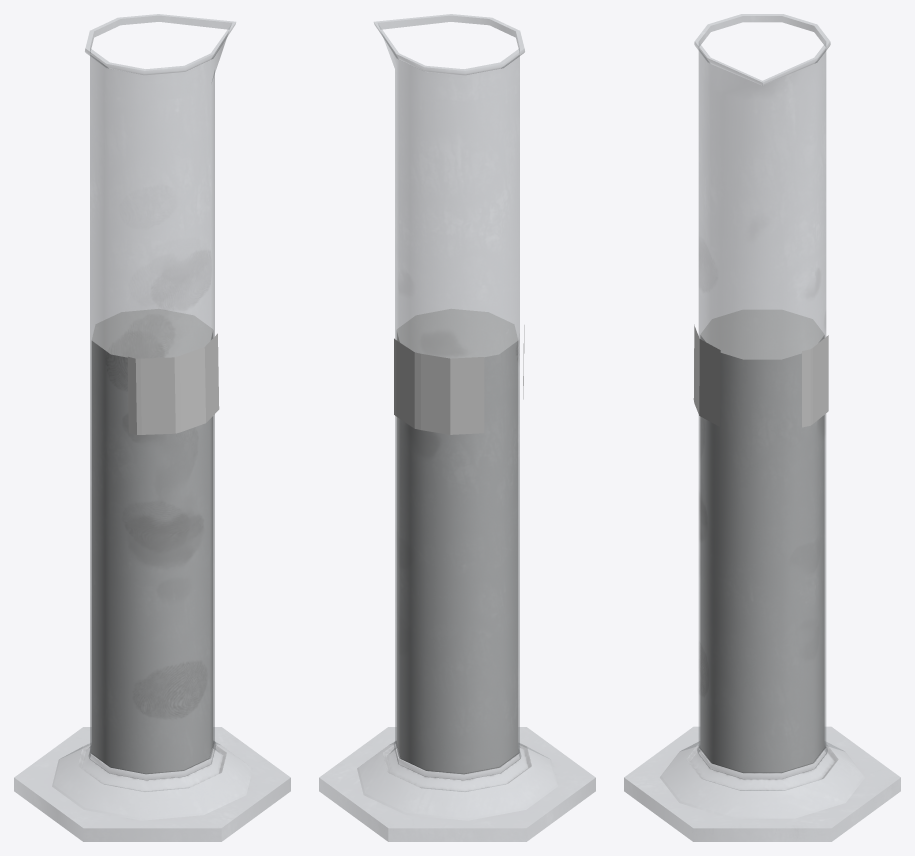
Rendered from TLLGraduatedCylinderNewLabel.glb.
3 renders of one model, left to right at view 1: azimuth 30°, elevation 25°; view 2: azimuth 150°, elevation 25°; view 3: azimuth 270°, elevation 25°, orthographic.
Parts seen in each view (by area): view 1: BeakerwOpacity, BeakerLiquid, Label; view 2: BeakerwOpacity, BeakerLiquid, LabelBack; view 3: BeakerwOpacity, BeakerLiquid, Label, LabelBack.
Part boxes in pixels (x1,y1,x2,y2): BeakerwOpacity: (14,14,290,841); BeakerLiquid: (91,309,213,774); Label: (127,333,219,434); BeakerwOpacity: (319,14,595,841); BeakerLiquid: (396,309,518,774); LabelBack: (394,338,484,434); BeakerwOpacity: (624,14,900,841); BeakerLiquid: (700,309,824,773); Label: (693,324,720,426); LabelBack: (802,335,828,427).
Bounding box in the file's own units: 0.0863 × 0.2976 × 0.0996.
1 material, 1 textured.
